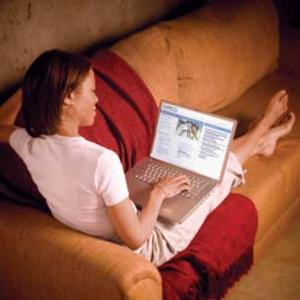person: (2, 47, 295, 268)
